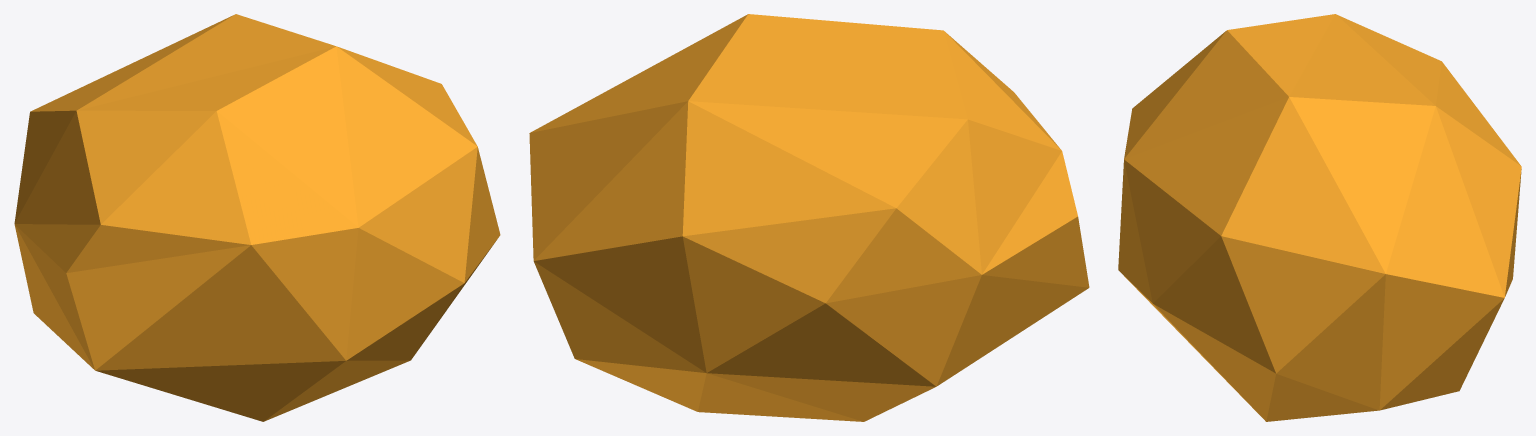
Rendered from SM_Potato_B.fbx.
The picture shows the model from 3 angles, left to right: view 1: azimuth 30°, elevation 25°; view 2: azimuth 150°, elevation 25°; view 3: azimuth 270°, elevation 25°; orthographic projection. The views are drawn at different scales.
Parts seen in each view (by area): view 1: potato-b; view 2: potato-b; view 3: potato-b.
Boxes of the visible parts, <box> form: potato-b: <box>14,14,500,421</box>; potato-b: <box>529,14,1089,421</box>; potato-b: <box>1118,14,1521,421</box>.
Bounding box in the file's own units: 0.1711 × 0.1206 × 0.1432.
